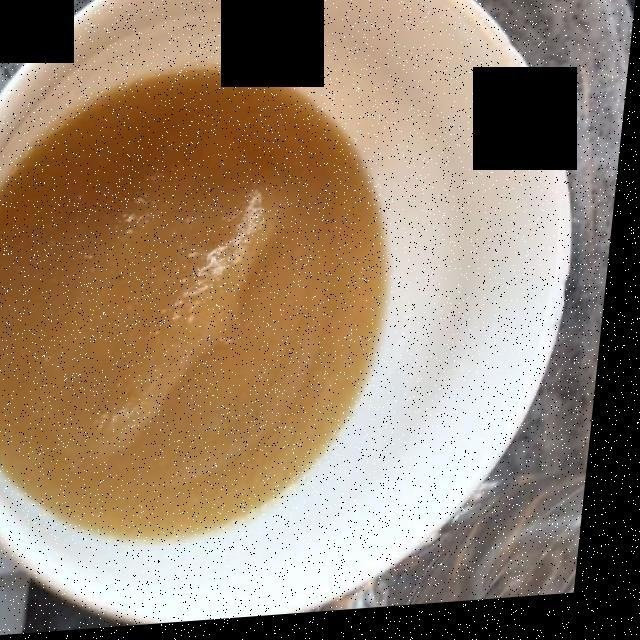applesauce: (0, 80, 381, 536)
